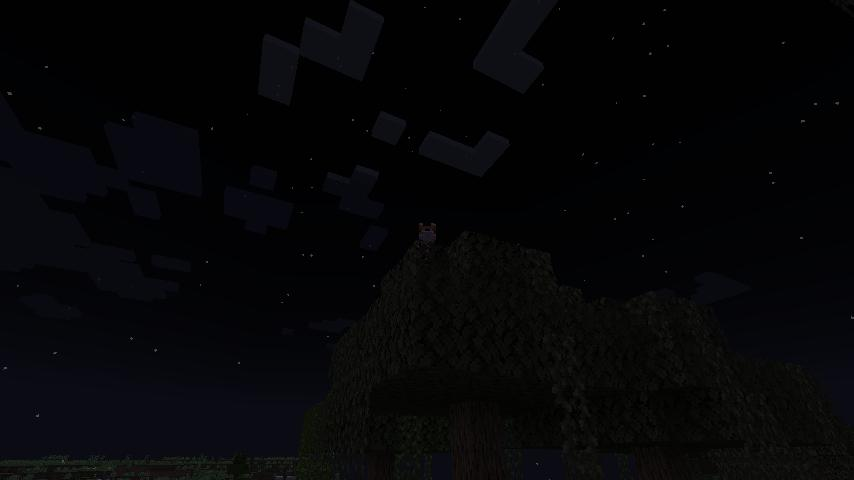fox: (416, 219, 439, 255)
